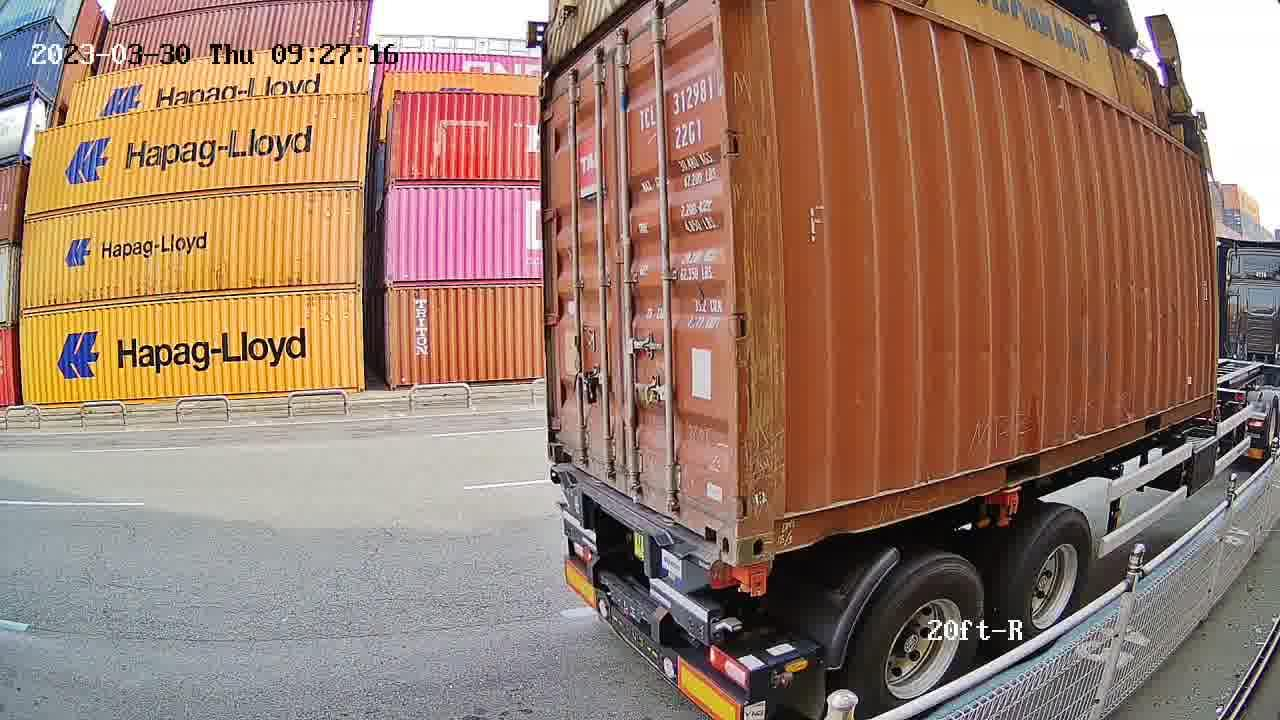Chassis: (553, 465, 769, 593)
Cone: (726, 562, 768, 600)
Hole_L: (736, 496, 802, 567), (547, 422, 578, 469)
Hole_R: (692, 489, 736, 566)
Tire: (865, 554, 988, 719), (1004, 510, 1093, 659)
